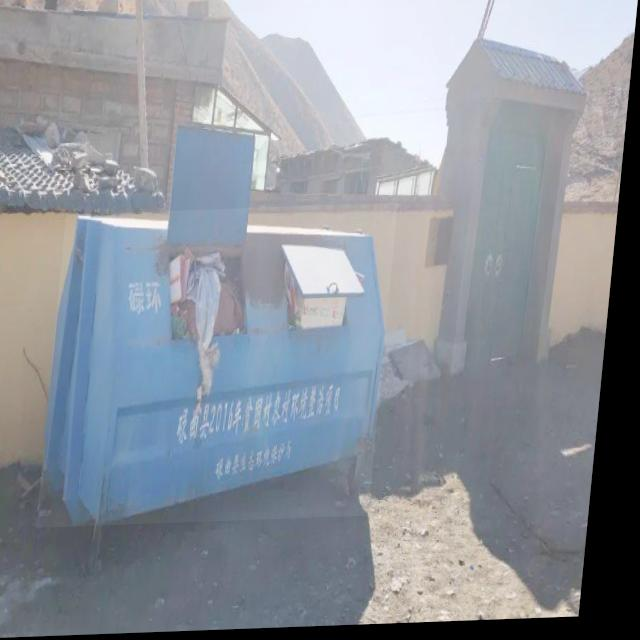overflow: (47, 206, 402, 529)
